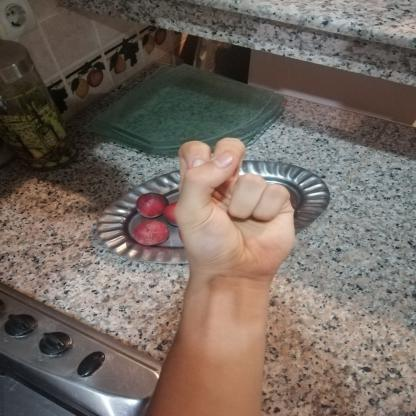QAAF: (161, 130, 310, 284)
